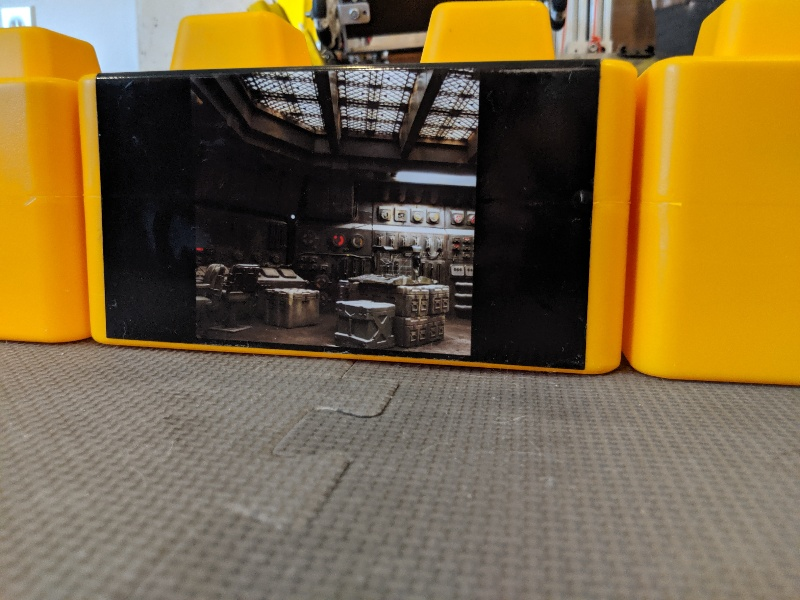Skystone: (87, 55, 606, 377)
